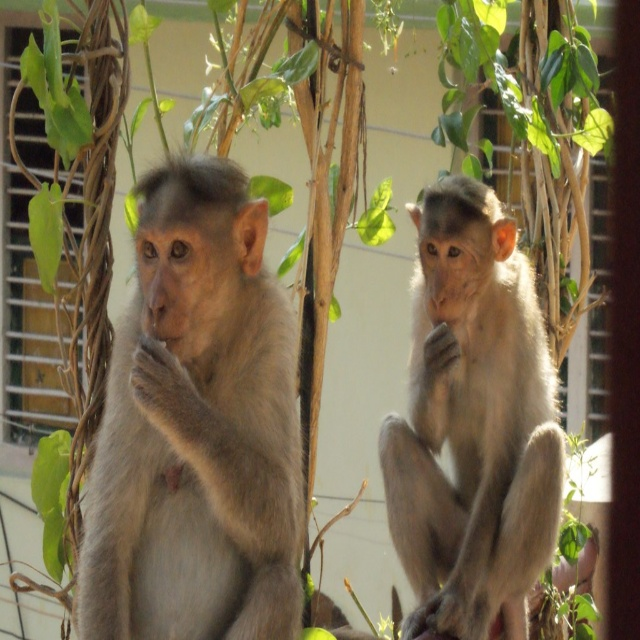Monkey: (75, 151, 309, 639), (376, 172, 566, 639)
